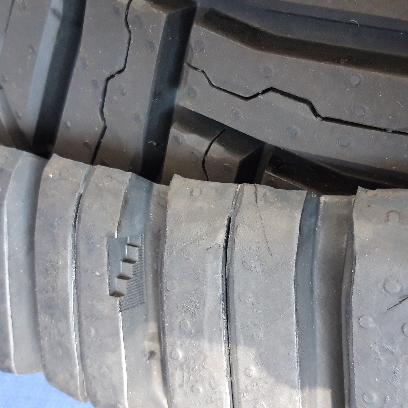temoin:100: (104, 230, 148, 316)
